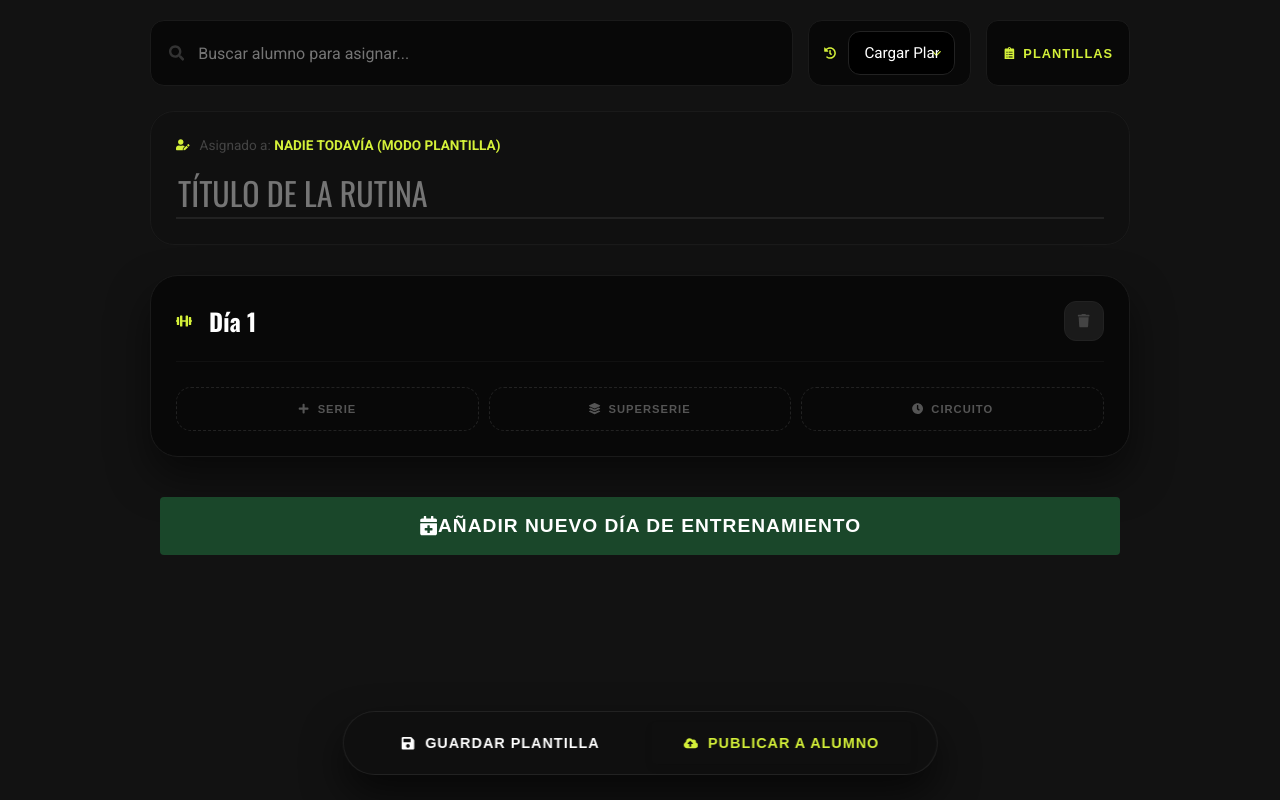
Scenario: AdminDashboard — construir un plan: días, bloques, ejercicios › "AÑADIR NUEVO DÍA DE ENTRENAMIENTO" agrega una sesión más, numerada secuencialmente
Click the button "AÑADIR NUEVO DÍA DE ENTRENAMIENTO": {"x": 640, "y": 526} [160,497,1120,555]
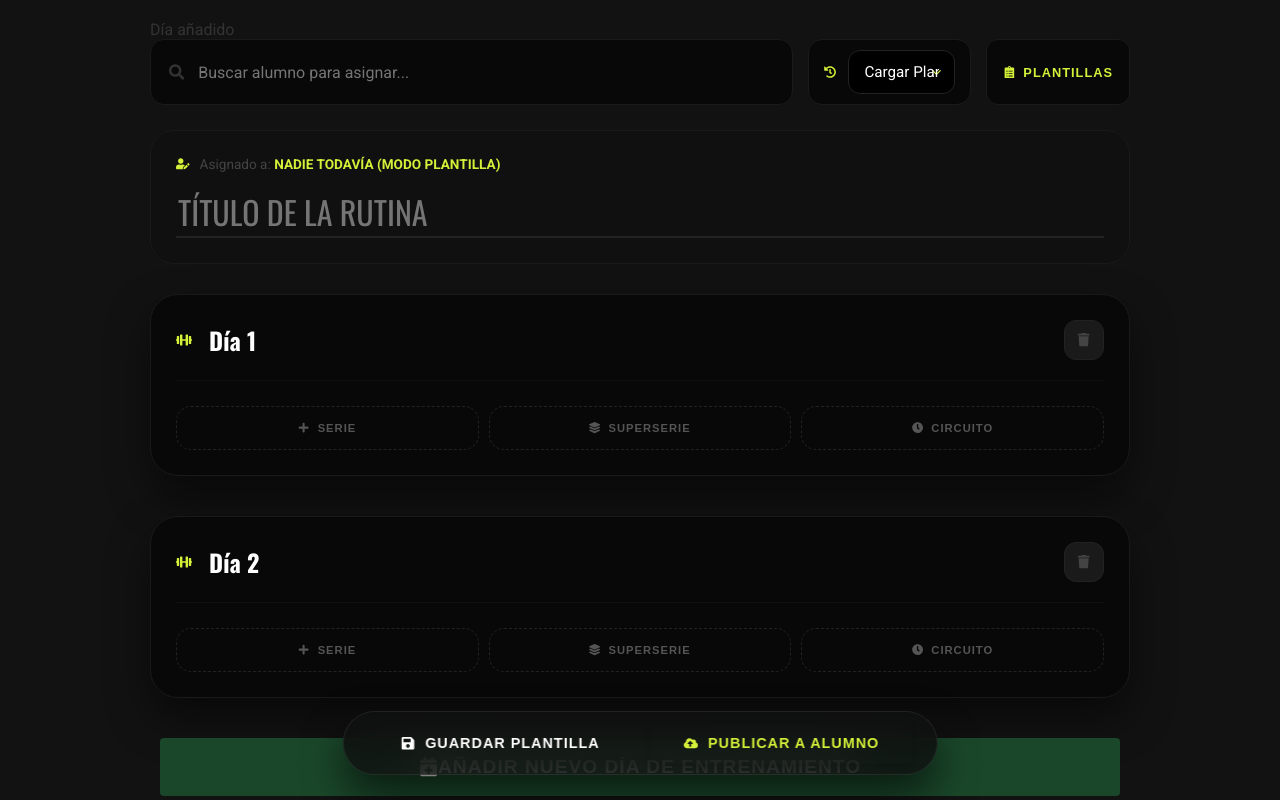
Check: the 2nd field showing "Día 2" is shown, box [207,543,1064,581]
